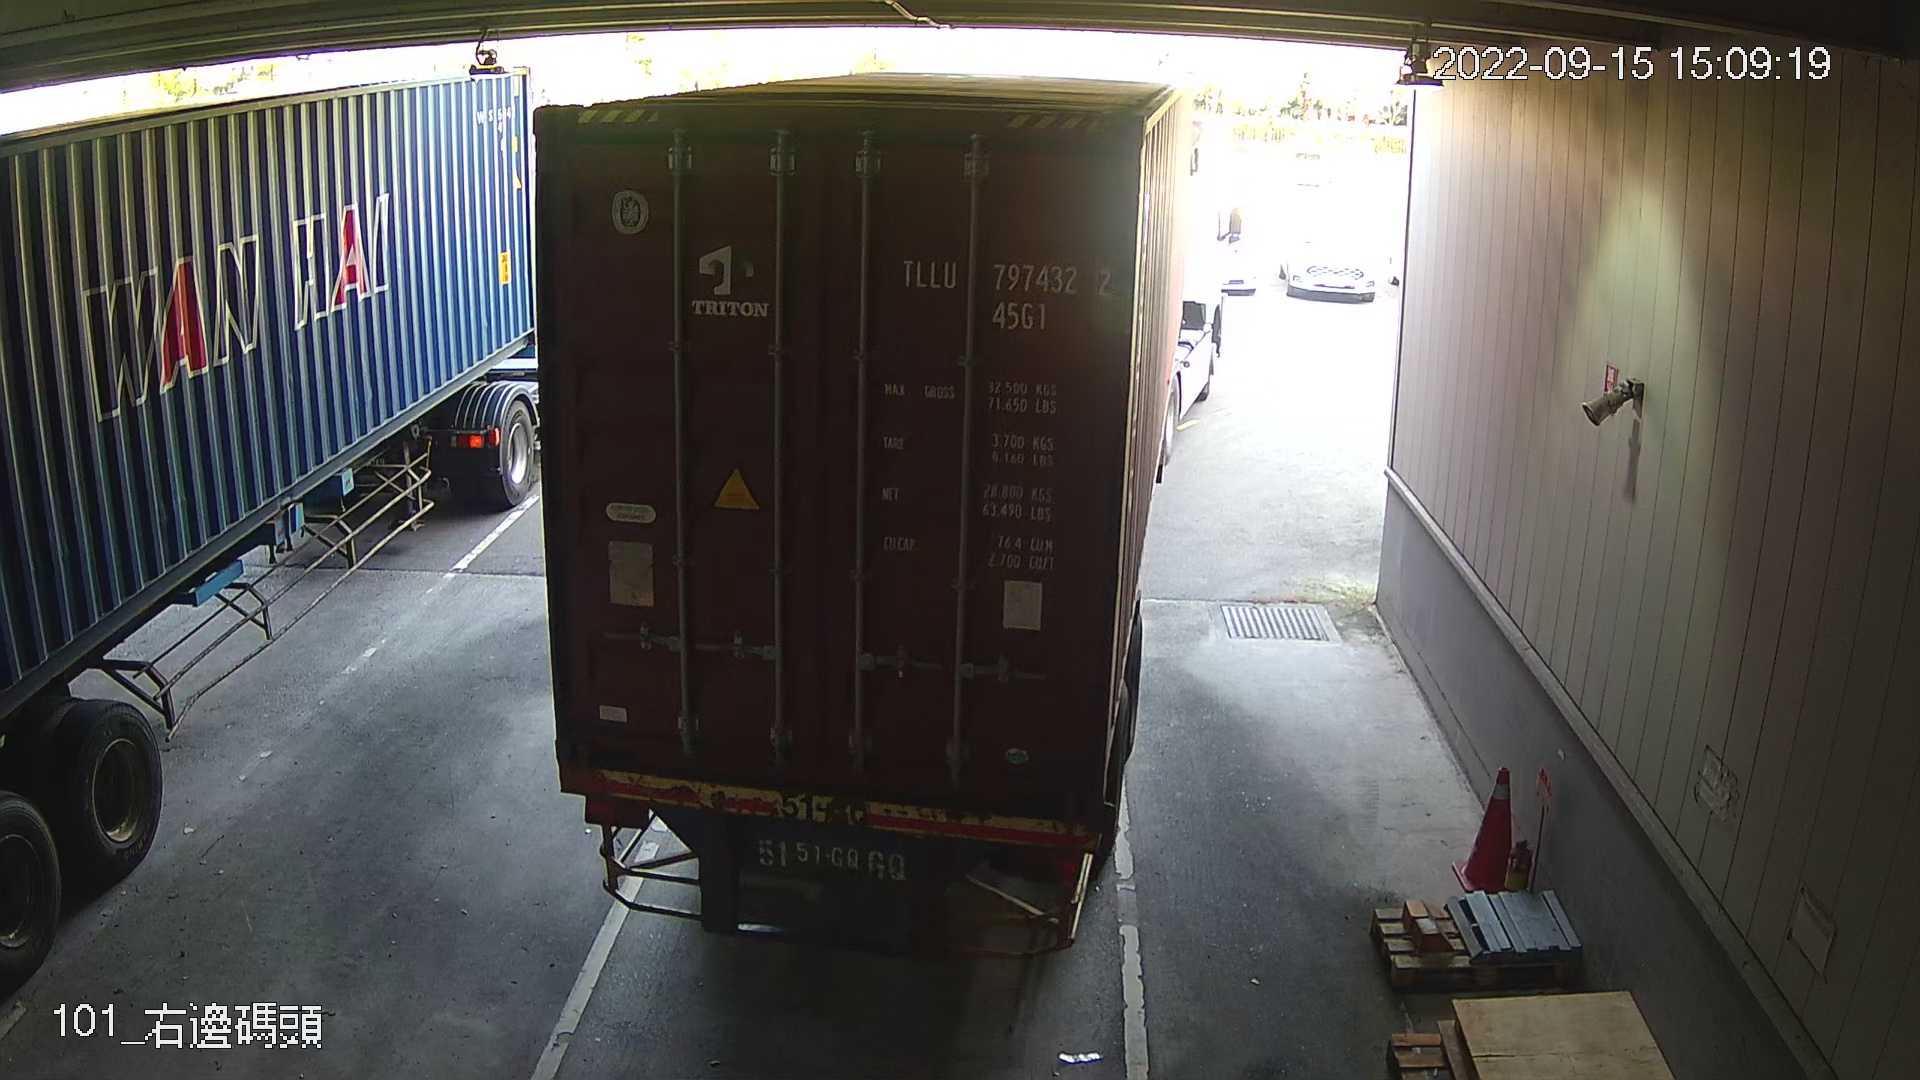container: (887, 239, 1124, 342)
